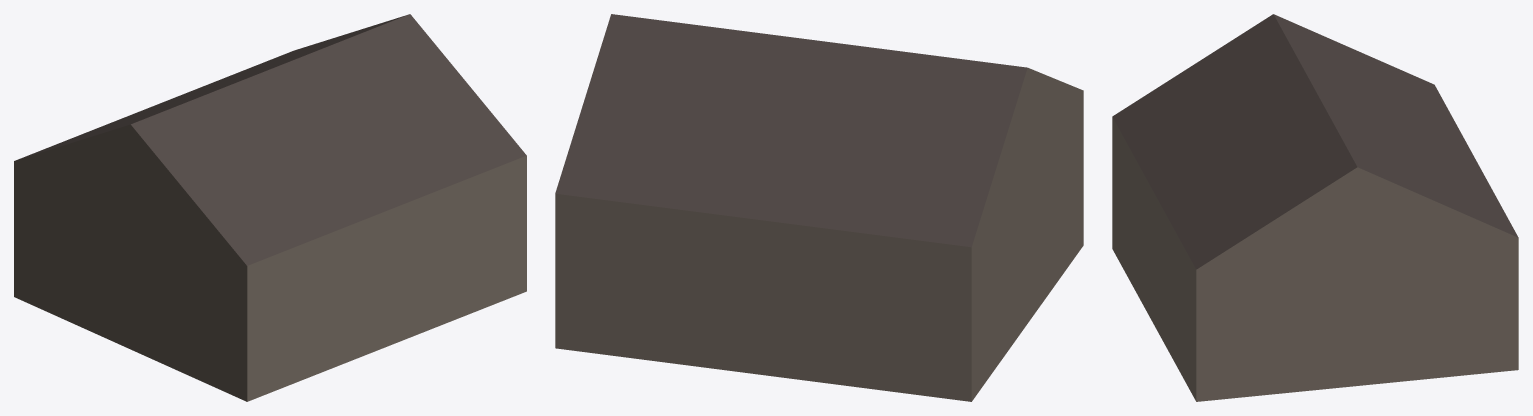
3 renders of one model, left to right at view 1: azimuth 30°, elevation 25°; view 2: azimuth 150°, elevation 25°; view 3: azimuth 270°, elevation 25°, orthographic. The views are drawn at different scales.
Visible parts, largest first — view 1: HP-w859457331; view 2: HP-w859457331; view 3: HP-w859457331.
Boxes of the visible parts, x1,y1,x2,y2 form: HP-w859457331: [14, 14, 526, 401]; HP-w859457331: [555, 14, 1083, 401]; HP-w859457331: [1112, 14, 1518, 401].
Bounding box in the file's own units: 18.02 × 9.93 × 16.72.
